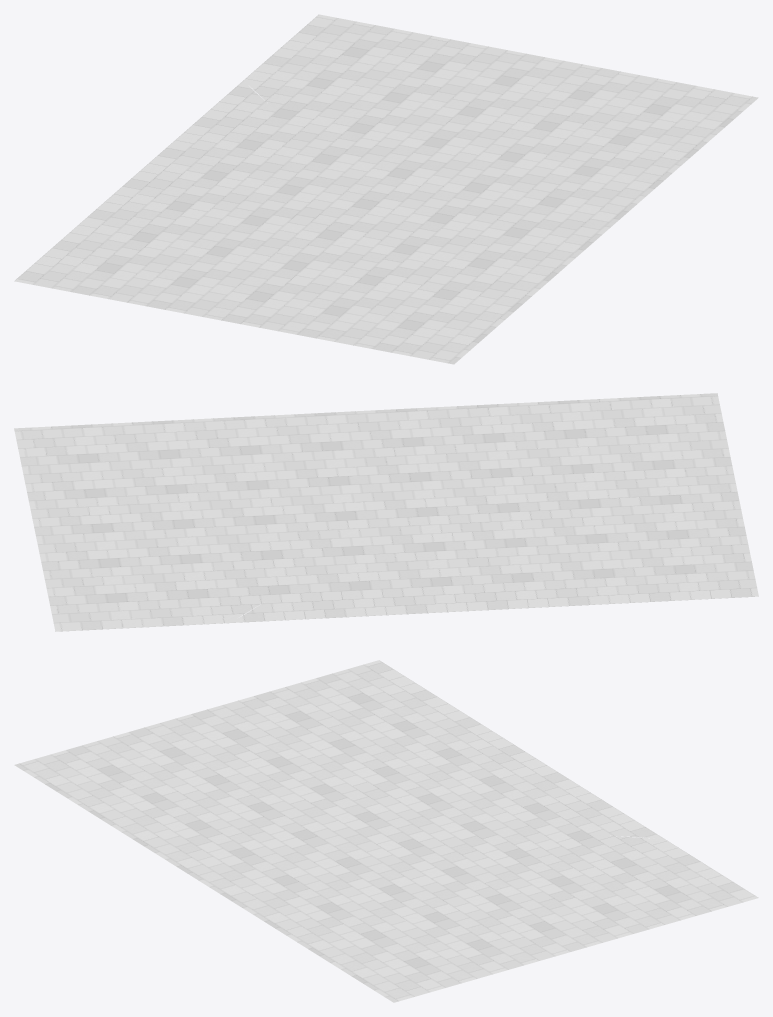
File: plaza-finish.glb
3 views of the same model, one above another, from view 1: azimuth 30°, elevation 25°; view 2: azimuth 150°, elevation 25°; view 3: azimuth 270°, elevation 25° (orthographic). The views are drawn at different scales.
Parts seen in each view (by area): view 1: plaza_finish; view 2: plaza_finish; view 3: plaza_finish.
Boxes of the visible parts, x1,y1,x2,y2 form: plaza_finish: (14,14,758,364); plaza_finish: (14,393,758,631); plaza_finish: (14,660,758,1002).
Size of the model in its own units: 12.53 by 0.2044 by 11.7.
1 material, 1 textured.
